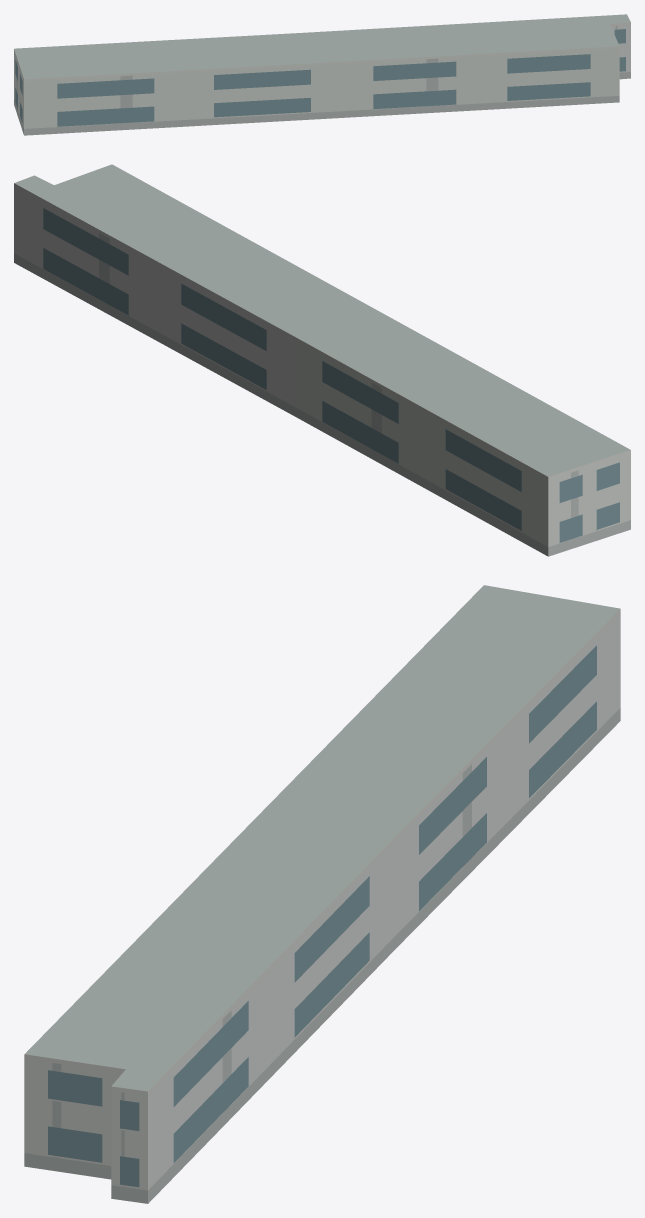
File: survey-upis-32600590.glb
The picture shows the model from 3 angles, top to bottom: view 1: azimuth 30°, elevation 25°; view 2: azimuth 150°, elevation 25°; view 3: azimuth 270°, elevation 25°; orthographic projection. The views are drawn at different scales.
Visible parts, largest first — view 1: survey-upis-32600590.tmp; view 2: survey-upis-32600590.tmp; view 3: survey-upis-32600590.tmp.
Part boxes in pixels (left/top/right/bottom): survey-upis-32600590.tmp: left=14, top=14, right=630, bottom=135; survey-upis-32600590.tmp: left=14, top=164, right=630, bottom=556; survey-upis-32600590.tmp: left=24, top=585, right=620, bottom=1203.
Bounding box in the file's own units: 58.99 × 6.1 × 29.35.
